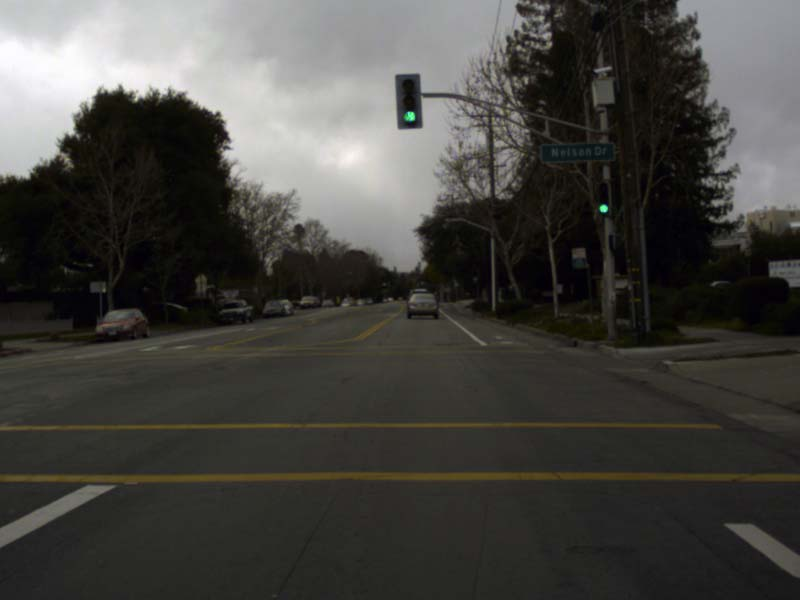Green: (395, 74, 421, 128), (598, 183, 609, 214), (415, 277, 419, 286)
